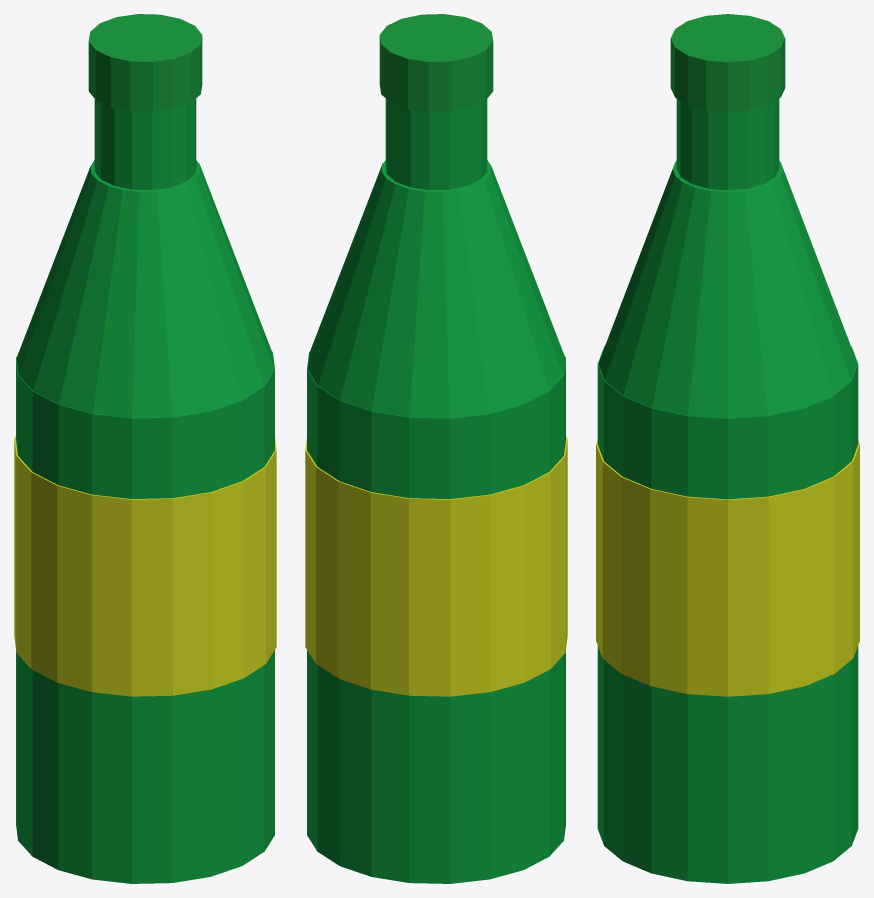
The model's file is Grocery_Soda_Bottle.obj.
3 renders of one model, left to right at view 1: azimuth 30°, elevation 25°; view 2: azimuth 150°, elevation 25°; view 3: azimuth 270°, elevation 25°, orthographic.
Parts seen in each view (by area): view 1: Bottle_Body, Bottle_Label_Band, Bottle_Shoulder, Bottle_Cap, Bottle_Neck; view 2: Bottle_Body, Bottle_Label_Band, Bottle_Shoulder, Bottle_Cap, Bottle_Neck; view 3: Bottle_Body, Bottle_Label_Band, Bottle_Shoulder, Bottle_Cap, Bottle_Neck.
Part boxes in pixels (left/top/right/bottom): Bottle_Body: left=16, top=351, right=274, bottom=883; Bottle_Label_Band: left=14, top=436, right=276, bottom=696; Bottle_Shoulder: left=16, top=160, right=274, bottom=418; Bottle_Cap: left=88, top=14, right=202, bottom=111; Bottle_Neck: left=94, top=98, right=196, bottom=190; Bottle_Body: left=307, top=351, right=565, bottom=883; Bottle_Label_Band: left=305, top=436, right=567, bottom=696; Bottle_Shoulder: left=307, top=160, right=565, bottom=418; Bottle_Cap: left=379, top=14, right=493, bottom=111; Bottle_Neck: left=385, top=98, right=487, bottom=190; Bottle_Body: left=597, top=346, right=858, bottom=883; Bottle_Label_Band: left=596, top=441, right=859, bottom=696; Bottle_Shoulder: left=598, top=161, right=857, bottom=418; Bottle_Cap: left=670, top=14, right=785, bottom=112; Bottle_Neck: left=676, top=99, right=779, bottom=190.
Bounding box in the file's own units: 0.0668 × 0.221 × 0.0668.
